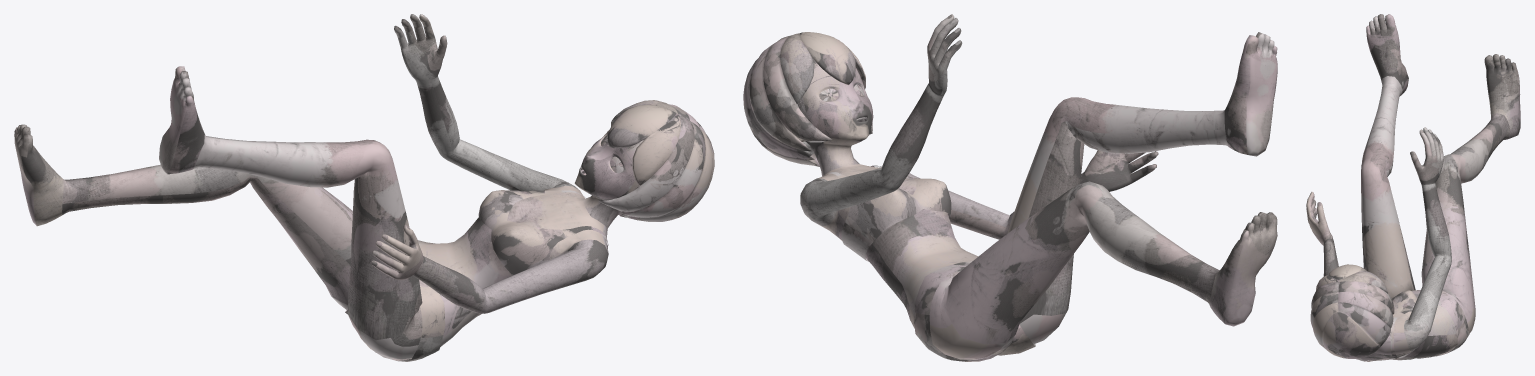
Rendered from Falling-M.glb.
The picture shows the model from 3 angles, left to right: view 1: azimuth 30°, elevation 25°; view 2: azimuth 150°, elevation 25°; view 3: azimuth 270°, elevation 25°; orthographic projection. The views are drawn at different scales.
Visible parts, largest first — view 1: objMesh; view 2: objMesh; view 3: objMesh.
Boxes of the visible parts, left/top/right/bottom form: objMesh: left=14, top=14, right=714, bottom=361; objMesh: left=743, top=14, right=1277, bottom=361; objMesh: left=1306, top=14, right=1520, bottom=361.
Size of the model in its own units: 1.33 by 0.7527 by 0.5674.
Materials: 4 (4 with a texture image).
